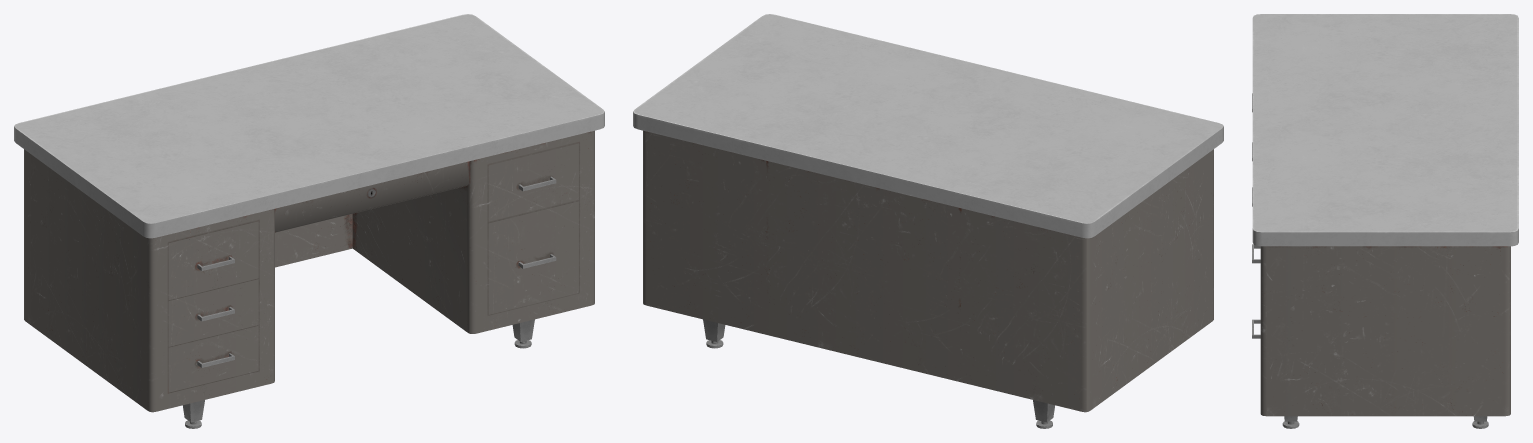
Rendered from SM_Desk_01.fbx.
3 renders of one model, left to right at view 1: azimuth 30°, elevation 25°; view 2: azimuth 150°, elevation 25°; view 3: azimuth 270°, elevation 25°, orthographic. The views are drawn at different scales.
Visible parts, largest first — view 1: SM_Desk_01; view 2: SM_Desk_01; view 3: SM_Desk_01.
Part boxes in pixels (x1=…): SM_Desk_01: x1=14, y1=14, x2=604, y2=428; SM_Desk_01: x1=633, y1=14, x2=1223, y2=428; SM_Desk_01: x1=1252, y1=14, x2=1518, y2=428.
Bounding box in the file's own units: 198 × 102 × 94.8.
Materials: 1 (1 with a texture image).
